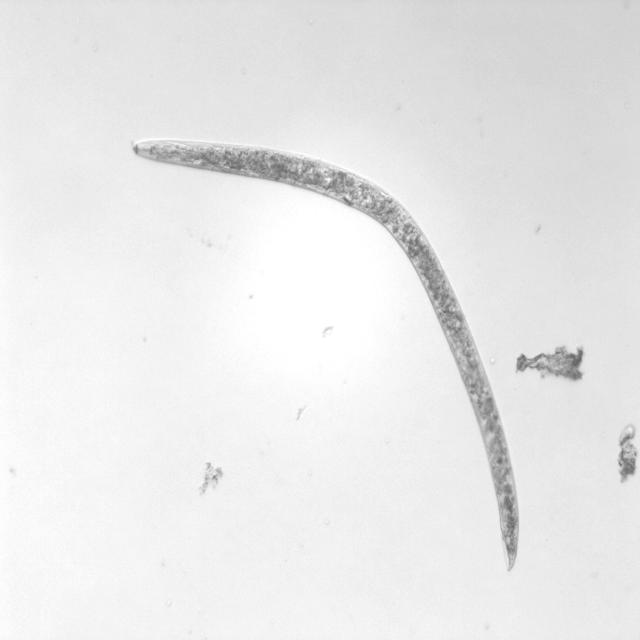Pratylenchus: (127, 140, 532, 583)
